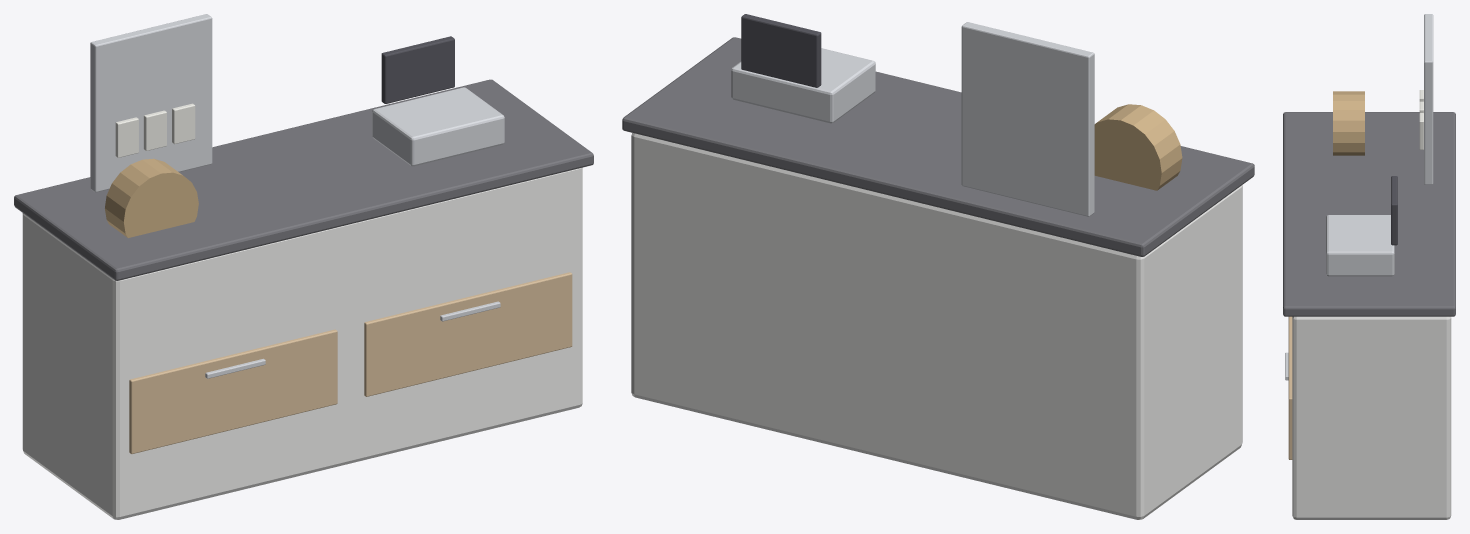
Rendered from shop_counter.glb.
3 views of the same model, side by side, from view 1: azimuth 30°, elevation 25°; view 2: azimuth 150°, elevation 25°; view 3: azimuth 270°, elevation 25° (orthographic). The views are drawn at different scales.
Visible parts, largest first — view 1: Shop_Counter; view 2: Shop_Counter; view 3: Shop_Counter.
Boxes of the visible parts, <box> form: Shop_Counter: <box>14,14,593,519</box>; Shop_Counter: <box>622,14,1254,519</box>; Shop_Counter: <box>1283,14,1455,519</box>.
Bounding box in the file's own units: 2.04 × 1.65 × 0.76.
